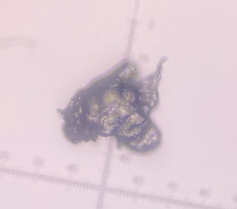microplastic: (56, 55, 169, 154)
